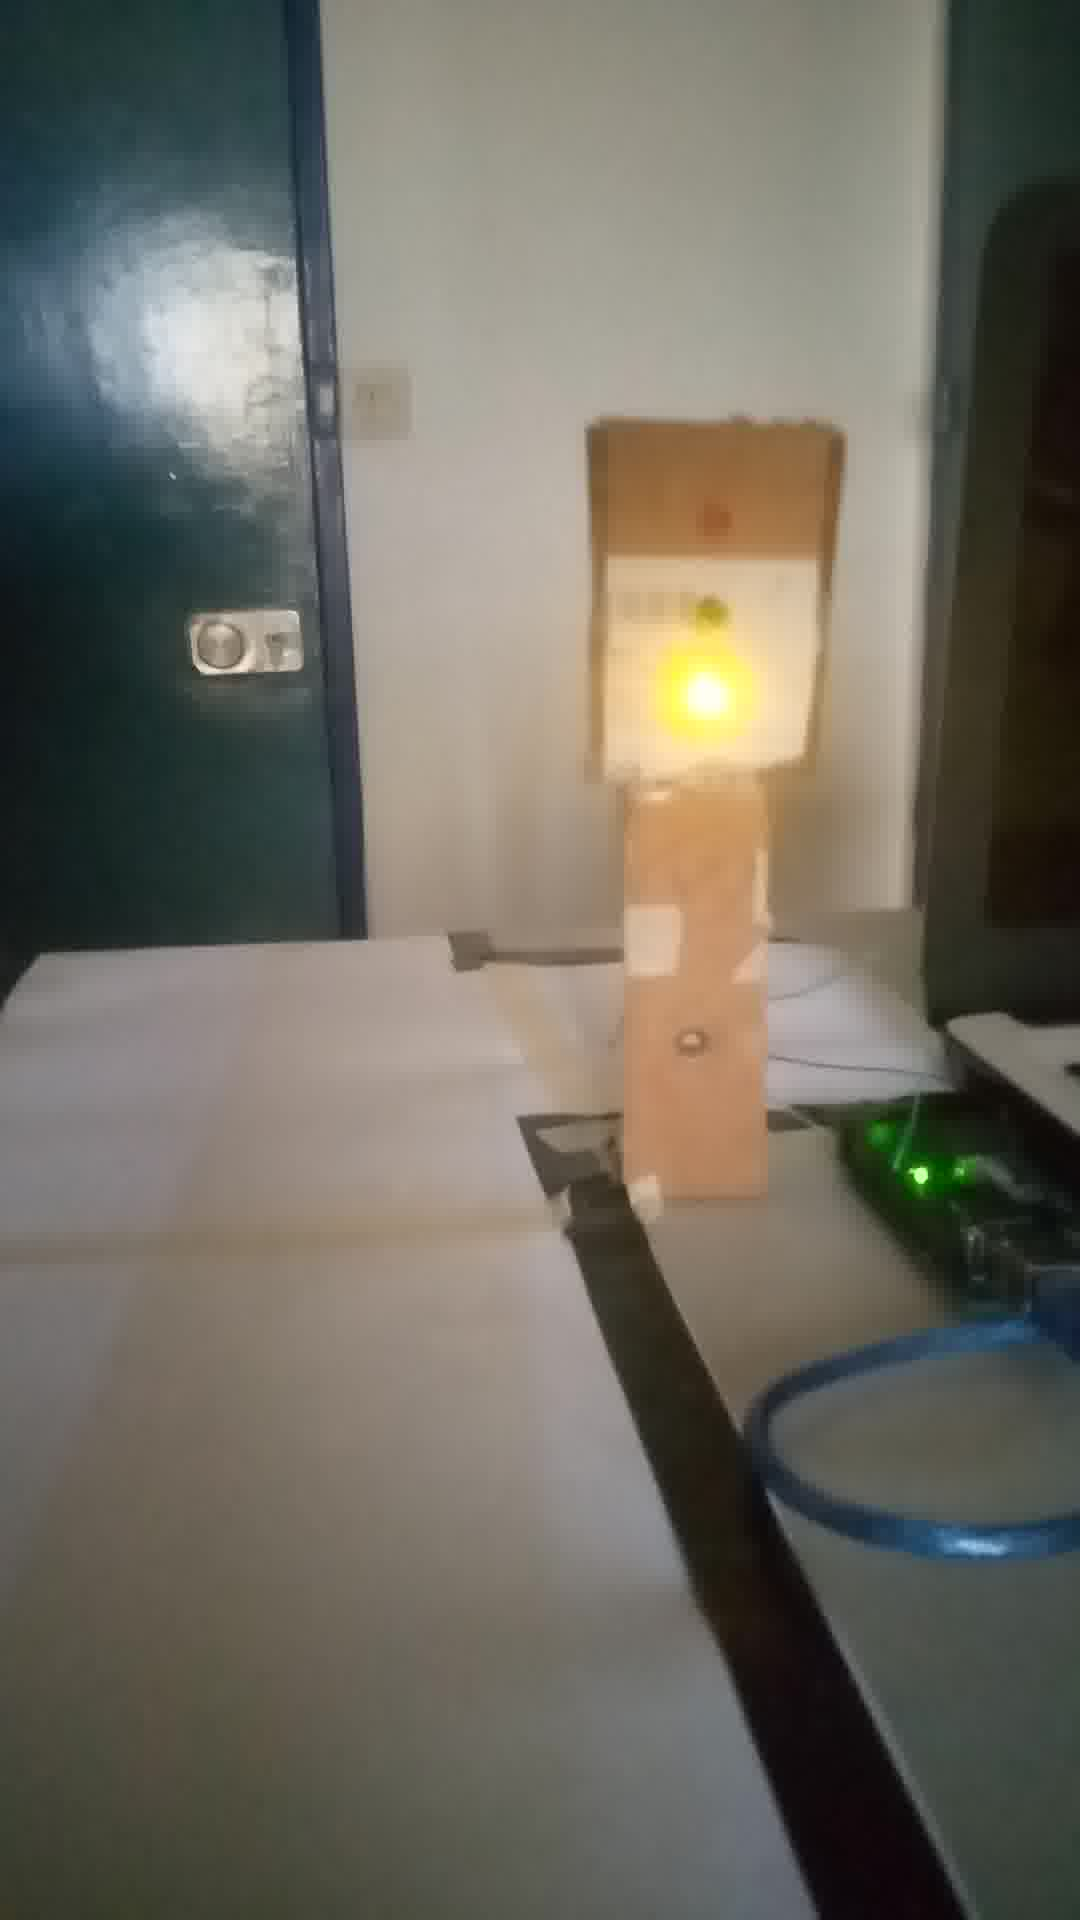green: (587, 414, 824, 757)
